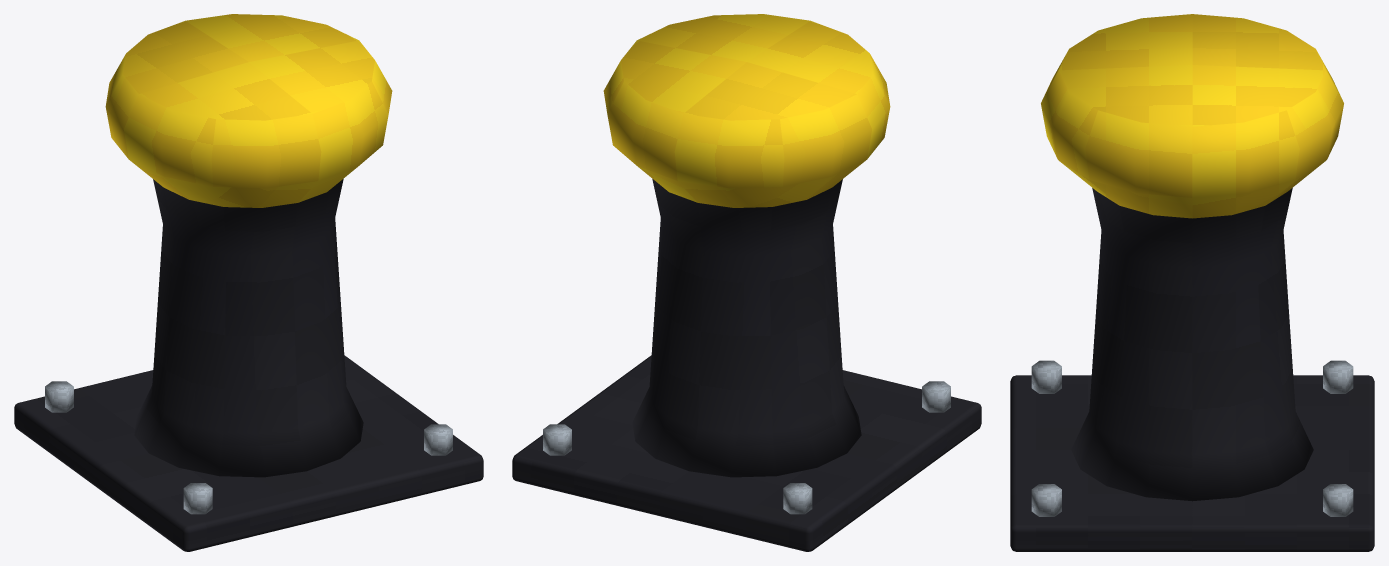
File: p_pj_bollard.glb
3 views of the same model, side by side, from view 1: azimuth 30°, elevation 25°; view 2: azimuth 150°, elevation 25°; view 3: azimuth 270°, elevation 25° (orthographic). The views are drawn at different scales.
Parts seen in each view (by area): view 1: p_pj_bollard_lod0; view 2: p_pj_bollard_lod0; view 3: p_pj_bollard_lod0.
Boxes of the visible parts, x1,y1,x2,y2 form: p_pj_bollard_lod0: (14,14,483,551); p_pj_bollard_lod0: (512,14,981,551); p_pj_bollard_lod0: (1010,14,1374,551).
Size of what is drawn, in the model's own units: 0.6 by 0.75 by 0.6.
Materials: 1 (1 with a texture image).
